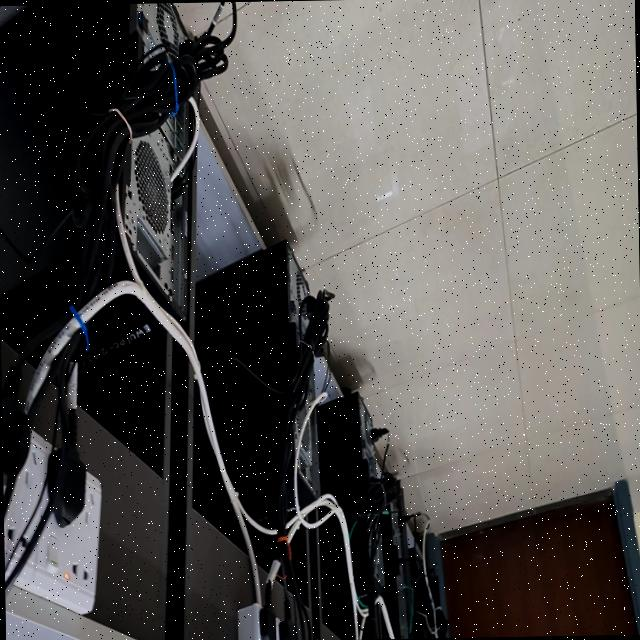Cpu: (0, 3, 192, 392), (192, 240, 320, 546), (312, 393, 382, 620), (391, 473, 413, 639)
